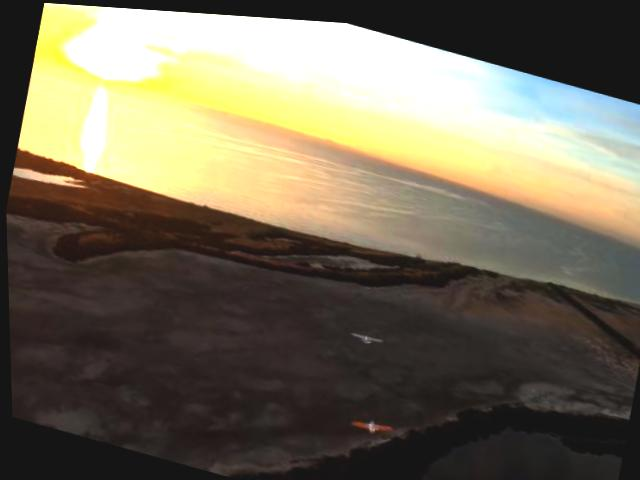uav: (348, 408, 392, 436), (345, 319, 384, 347)
